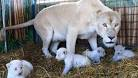lion: (8, 1, 124, 70)
